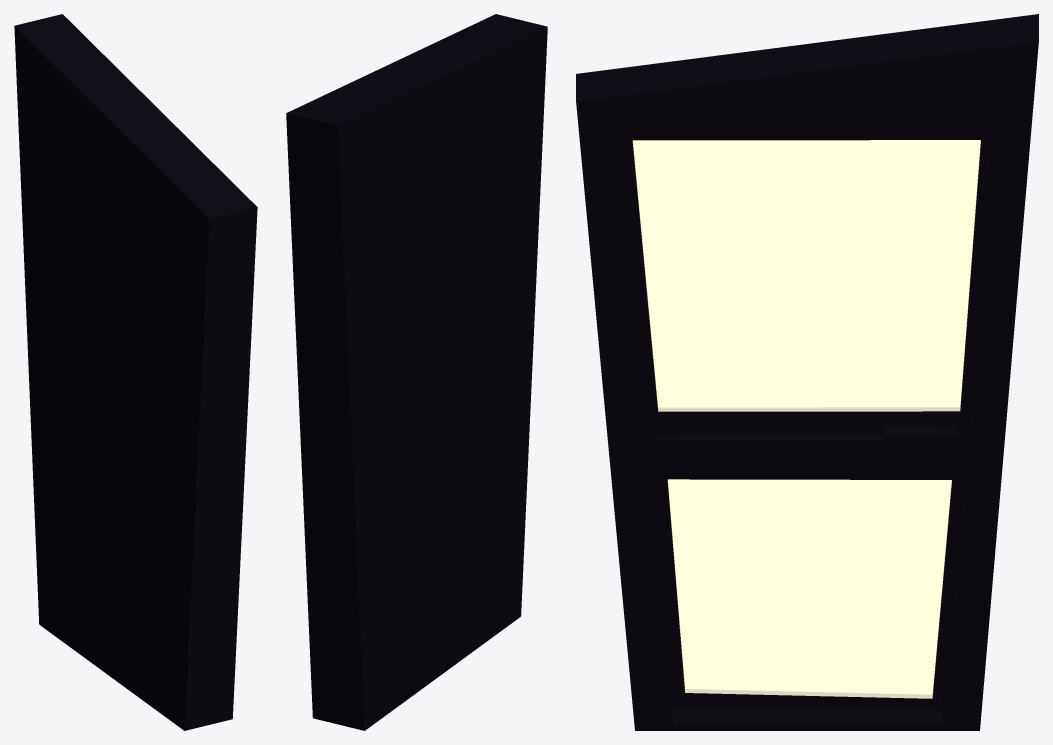
File: door.fbx
3 renders of one model, left to right at view 1: azimuth 30°, elevation 25°; view 2: azimuth 150°, elevation 25°; view 3: azimuth 270°, elevation 25°, orthographic. The views are drawn at different scales.
Visible parts, largest first — view 1: Door; view 2: Door; view 3: Door.
Boxes of the visible parts, x1,y1,x2,y2 form: Door: (14, 14, 257, 730); Door: (286, 14, 547, 730); Door: (576, 14, 1038, 730).
Bounding box in the file's own units: 200 × 2300 × 1400.
